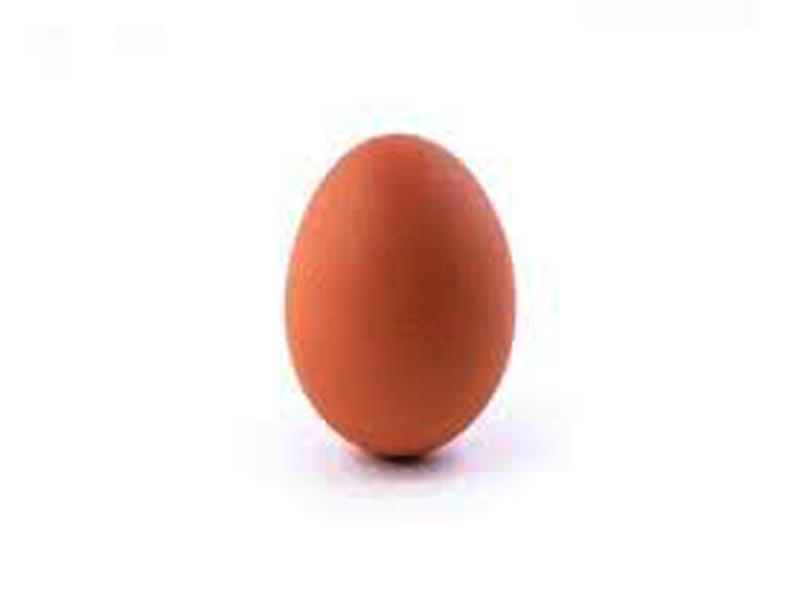Eggs: (285, 134, 518, 456)
